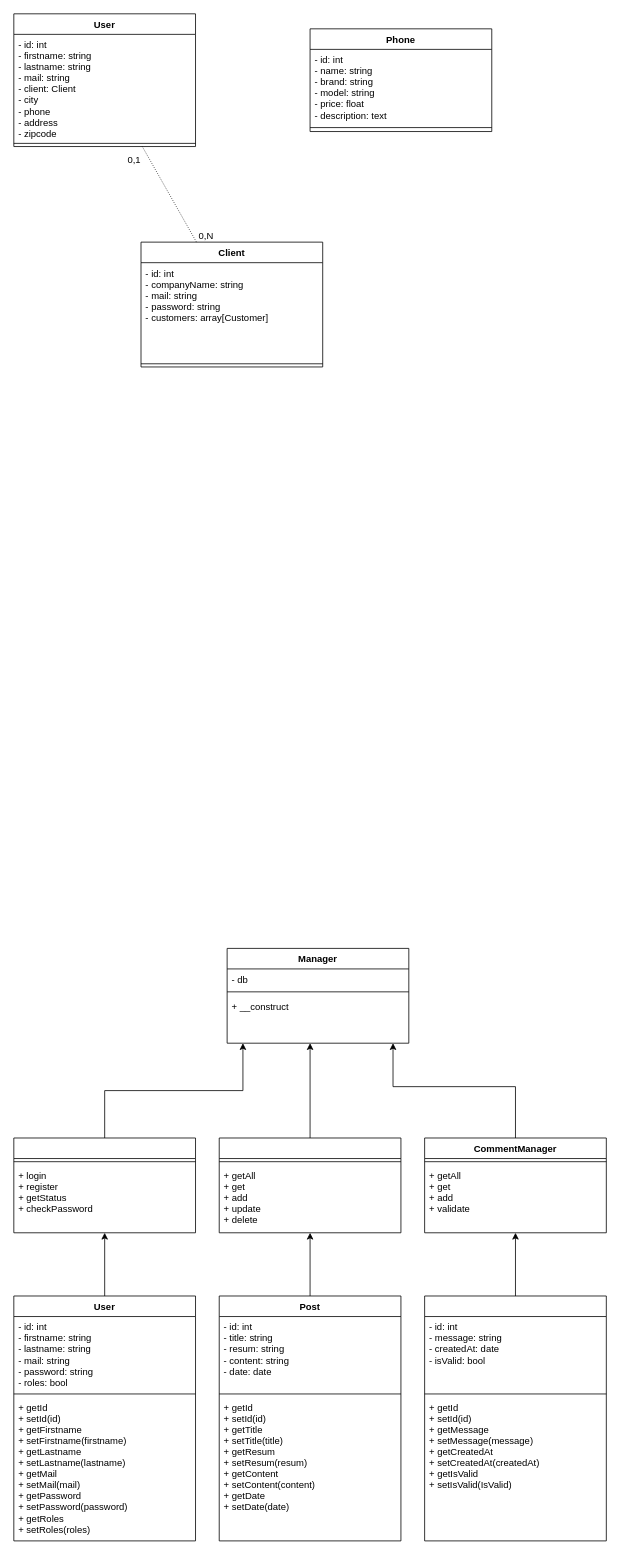
Some shapes in this 620 by 1557 pixel diagram are drawn without their labels. Here are the shapes that lost their labels. From the top down, the box of each, then its label:
(13, 1137, 196, 1233): UserManager
(218, 1137, 401, 1233): PostManager
(424, 1295, 606, 1541): Comment
